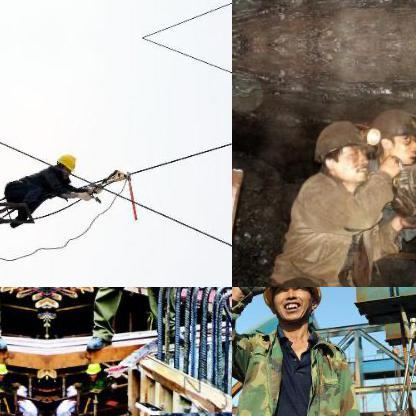Helmet: (312, 115, 370, 182), (263, 287, 327, 330), (370, 104, 415, 161), (54, 150, 78, 174), (79, 358, 103, 382), (0, 357, 13, 383)
